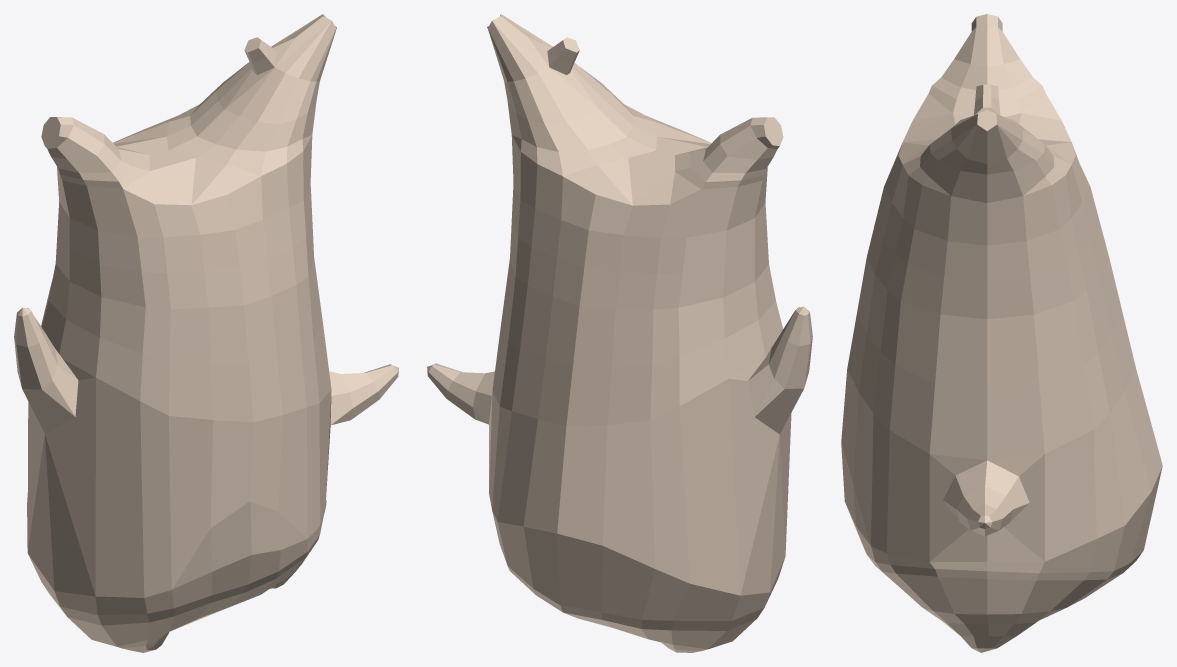
The model's file is frame_0089.obj.
3 renders of one model, left to right at view 1: azimuth 30°, elevation 25°; view 2: azimuth 150°, elevation 25°; view 3: azimuth 270°, elevation 25°, orthographic.
Visible parts, largest first — view 1: korok; view 2: korok; view 3: korok.
Part boxes in pixels (left/top/right/bottom): korok: left=14, top=14, right=398, bottom=652; korok: left=427, top=14, right=812, bottom=652; korok: left=841, top=14, right=1162, bottom=652.
Bounding box in the file's own units: 1.5 × 2.2 × 1.07.
